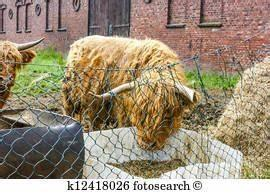cow: (60, 34, 202, 151)
